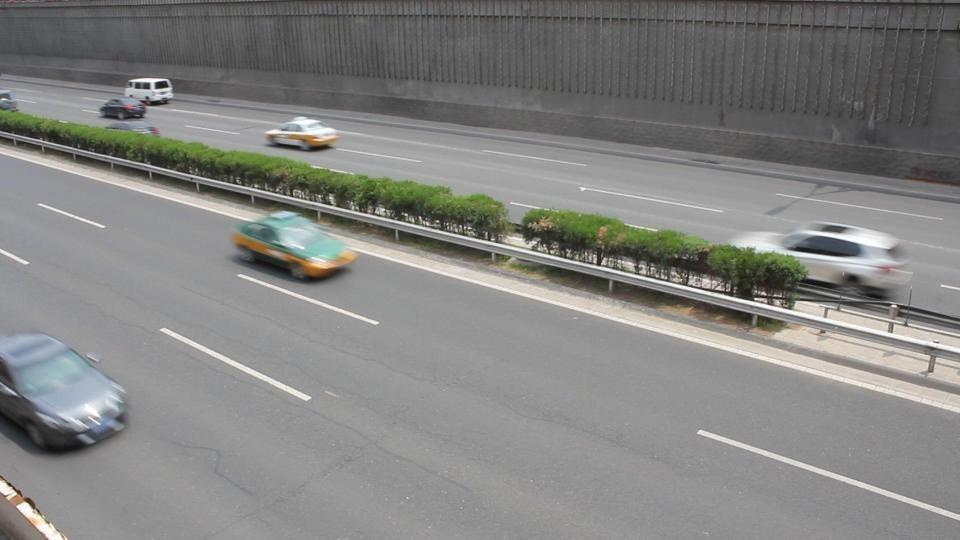car: (1, 332, 129, 451), (779, 222, 914, 301), (230, 210, 359, 282), (263, 116, 340, 151), (123, 78, 174, 106), (99, 96, 145, 119), (0, 90, 18, 111)
